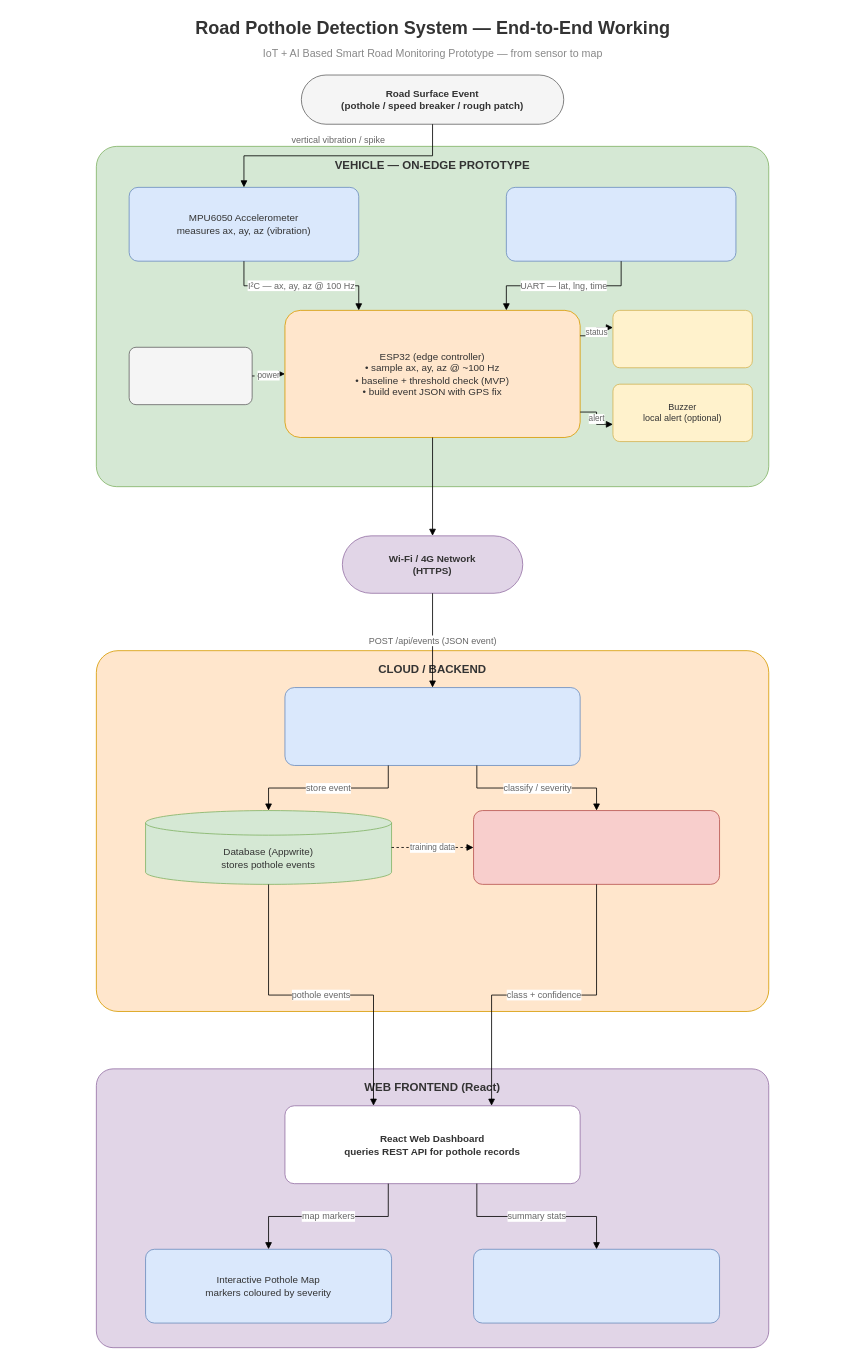
This 864x1362 diagram has some shape labels left out. The shapes that lost their labels are listed below. From the top down, each one's box as (x1, y1, x2, y2) in pixels, then its label:
(506, 187, 736, 261): NEO-6M GPS Module latitude, longitude, time
(612, 310, 752, 368): OLED Display status / values
(128, 346, 252, 405): Battery / Power Bank
(284, 687, 580, 765): FastAPI Server (Python) POST /api/events · GET /api/potholes
(473, 810, 720, 884): ML Service Random Forest / XGBoost classifier
(473, 1248, 720, 1323): Analytics / Statistics counts, history, filters
